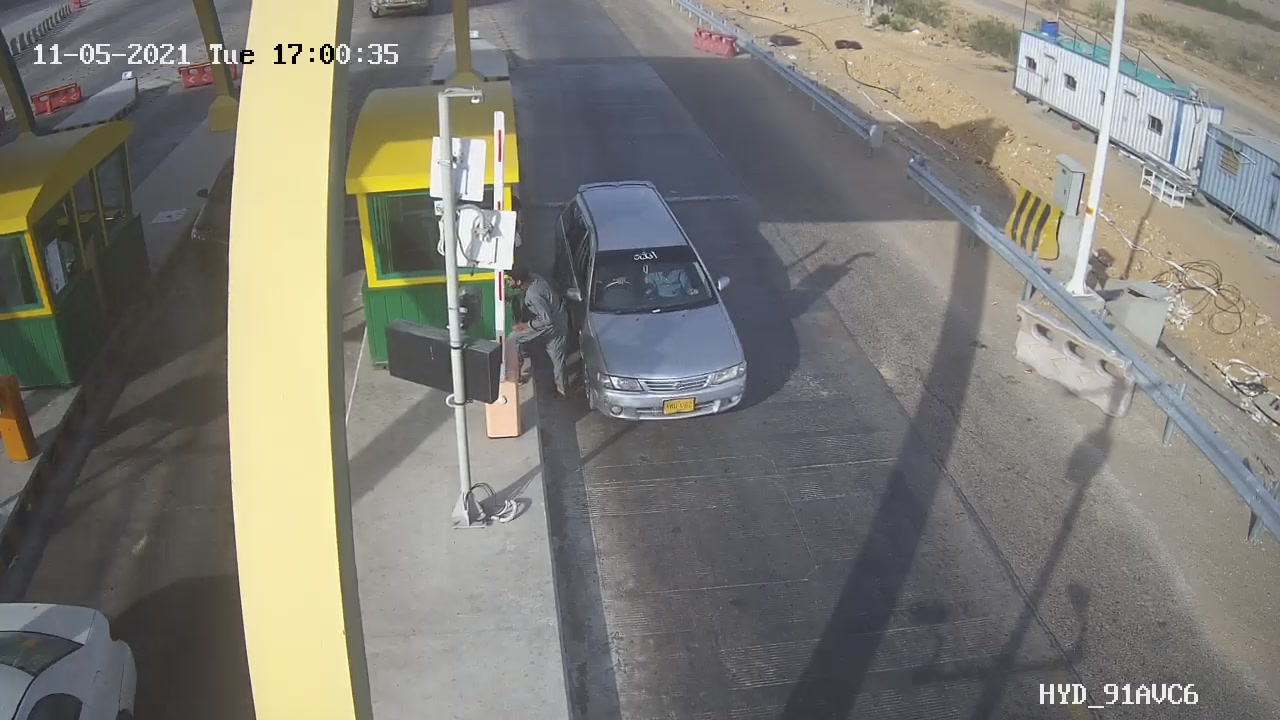F1: (531, 162, 770, 439)
